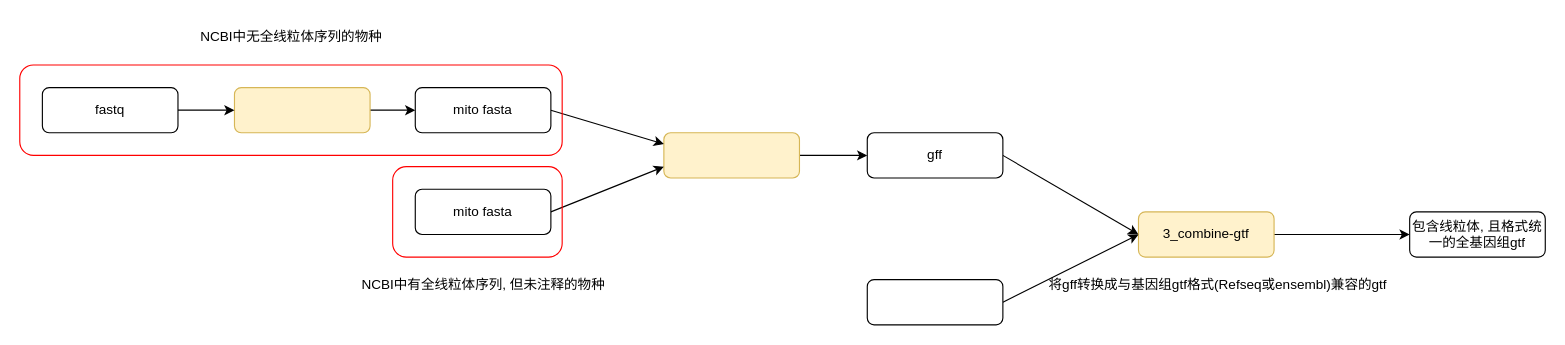
Image size: 1565x345. Some labels were removed from this diagram. The shapes that lost their labels are listed below. From the top down, each one's centre as x and y in pixels, then its label:
At point 301,109: "1_generate-mito".
At point 731,155: "2_annotate-mito".
At point 934,302: "特定物种的基因组gtf".
